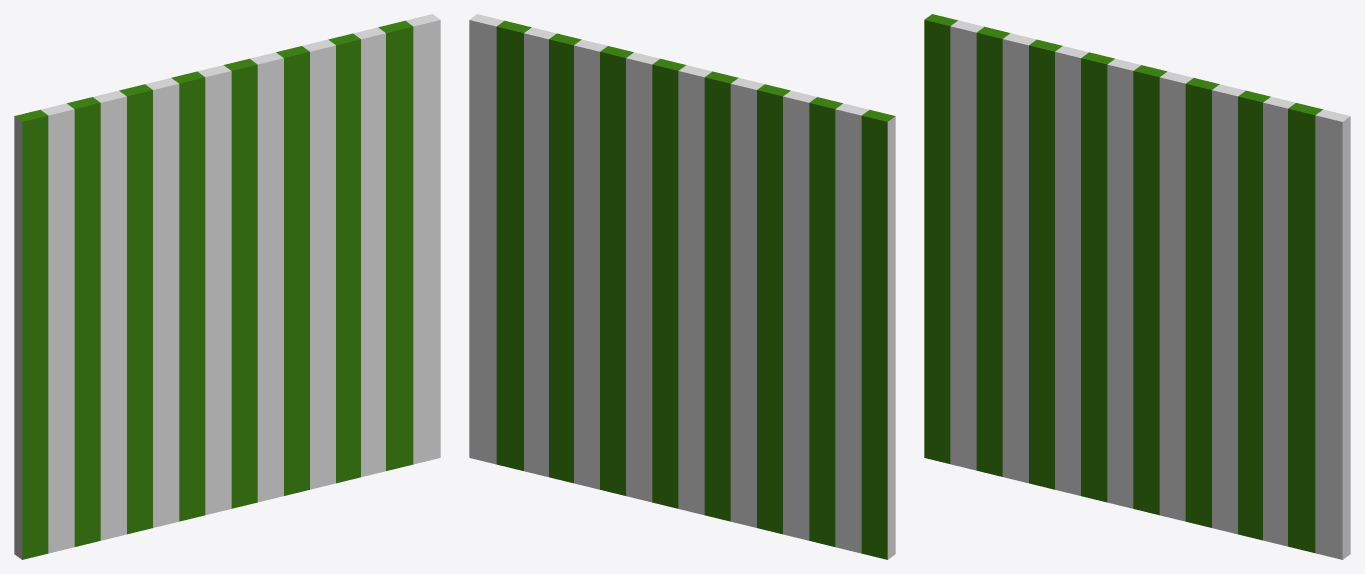
The model's file is Paredbase.fbx.
3 renders of one model, left to right at view 1: azimuth 30°, elevation 25°; view 2: azimuth 150°, elevation 25°; view 3: azimuth 330°, elevation 25°, orthographic.
Parts seen in each view (by area): view 1: Cube; view 2: Cube; view 3: Cube.
Part boxes in pixels (bbox=[...]): Cube: bbox=[14, 14, 440, 559]; Cube: bbox=[469, 14, 895, 559]; Cube: bbox=[924, 14, 1350, 559].
Bounding box in the file's own units: 300 × 10 × 300.
